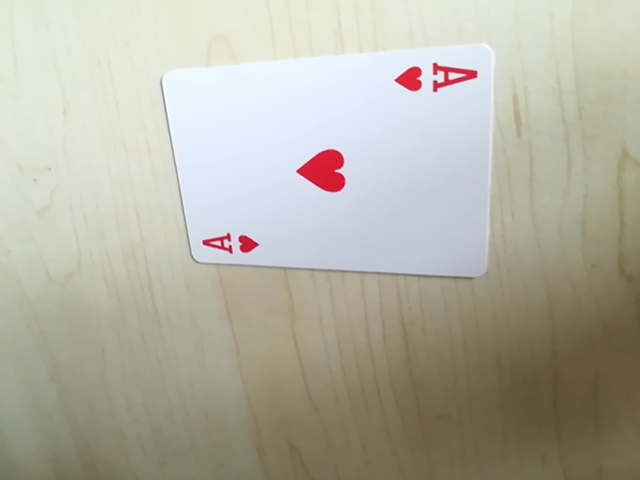hx a: (394, 54, 481, 103), (196, 225, 265, 260)
